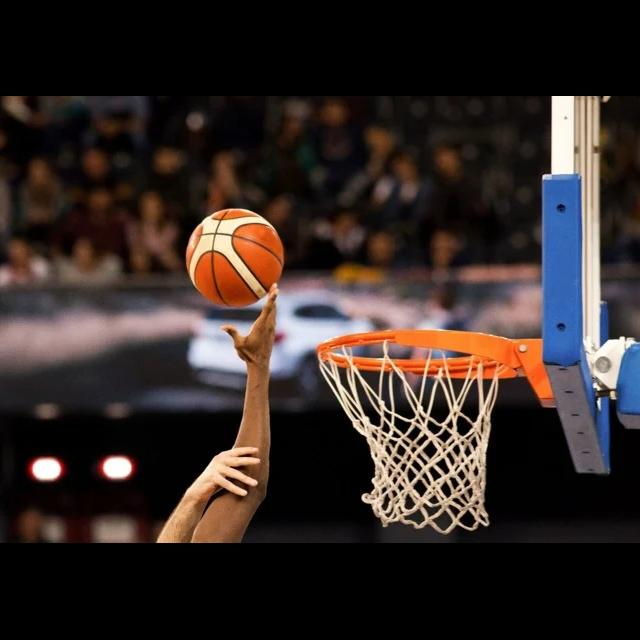basketball: (185, 208, 284, 310)
hoop: (316, 330, 521, 530)
